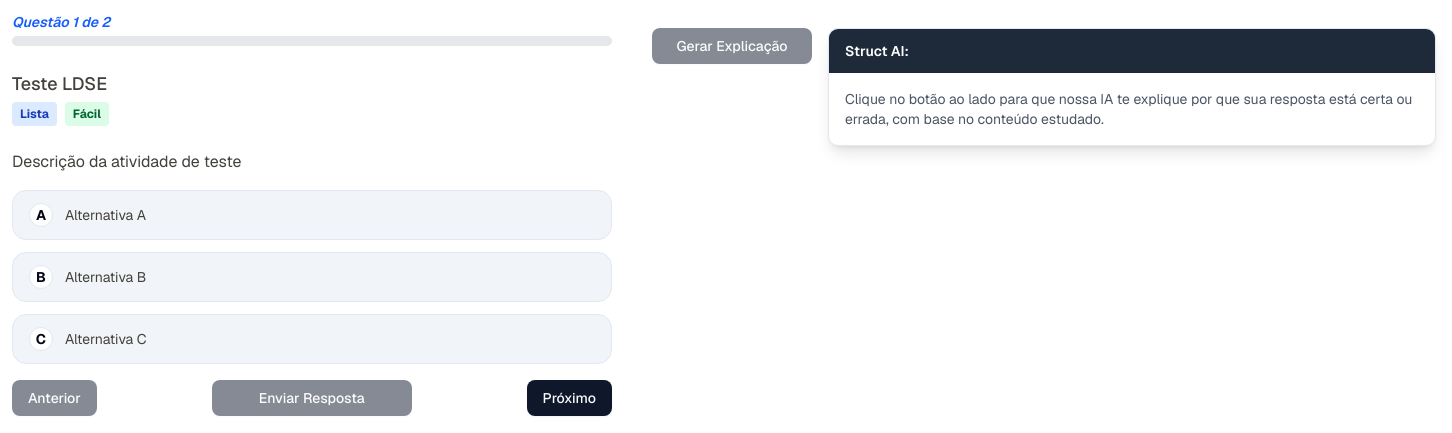
QuestaoPage › deve desabilitar navegação corretamente
This screenshot has width=1452, height=433.
Check: the button "Anterior" is disabled, box [12,380,97,416]
Note: Navega para a última questão
Click the button "Próximo": (569, 398) [527,380,612,416]
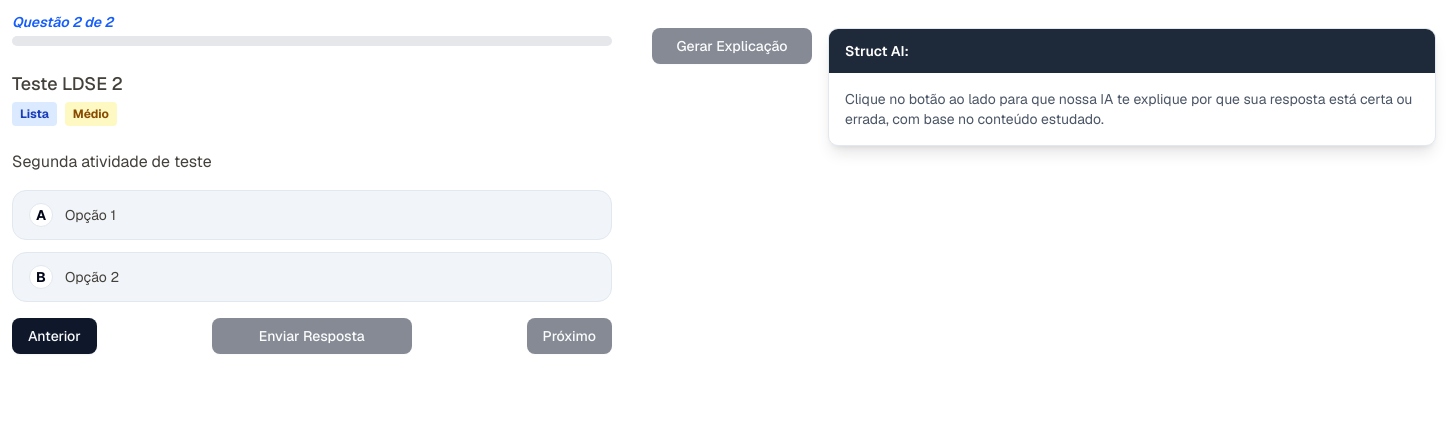
Check: the button "Próximo" is disabled, box [527,318,612,354]
Check: the button "Anterior" is enabled, box [12,318,97,354]
